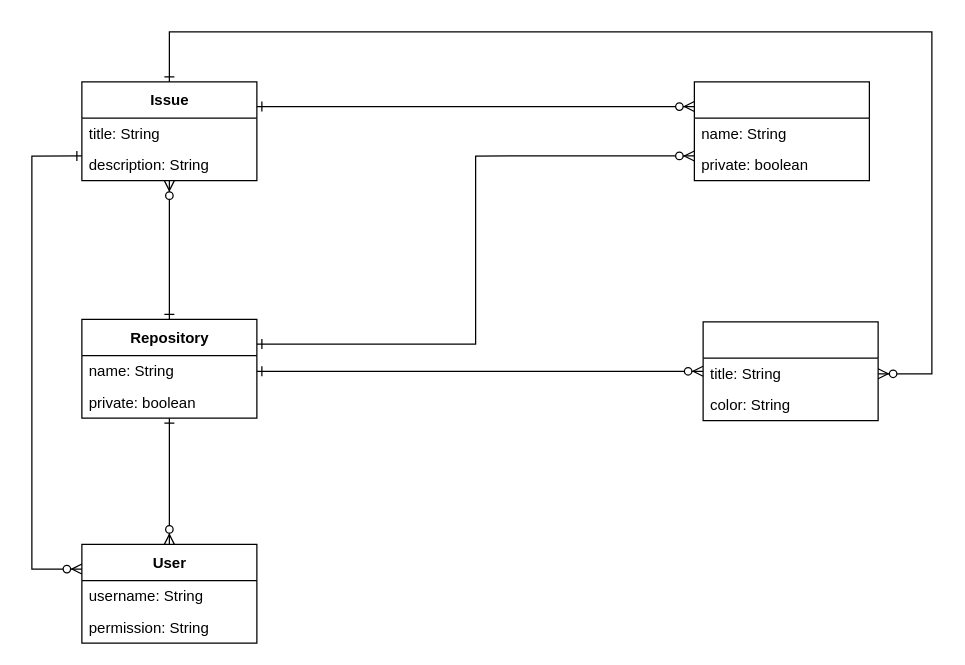
Image size: 965x665. Some labels were removed from this diagram. Each missing label, with the box of its shape:
Milestone: (693, 81, 869, 181)
Tag: (702, 321, 878, 421)
